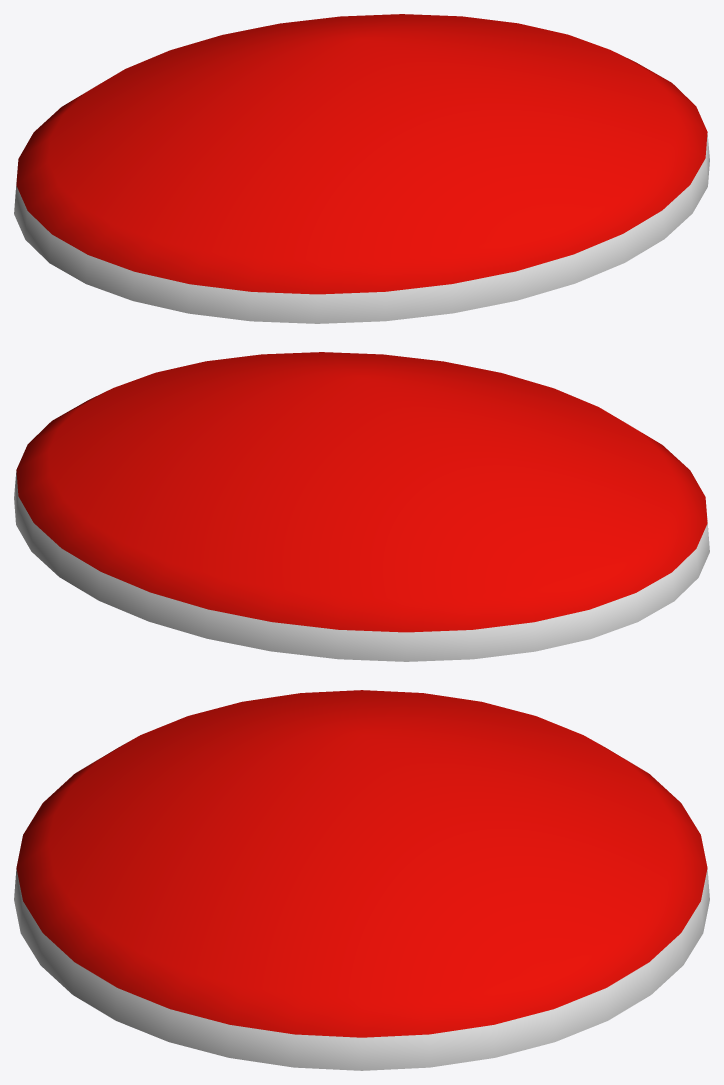
Rendered from Note_Cymbal.fbx.
The picture shows the model from 3 angles, top to bottom: view 1: azimuth 30°, elevation 25°; view 2: azimuth 150°, elevation 25°; view 3: azimuth 270°, elevation 25°; orthographic projection. The views are drawn at different scales.
Parts seen in each view (by area): view 1: Cymbal; view 2: Cymbal; view 3: Cymbal.
Part boxes in pixels (x1,y1,x2,y2): Cymbal: (14, 14, 709, 323); Cymbal: (14, 352, 709, 661); Cymbal: (14, 690, 709, 1070).
Bounding box in the file's own units: 187 × 42.15 × 161.
